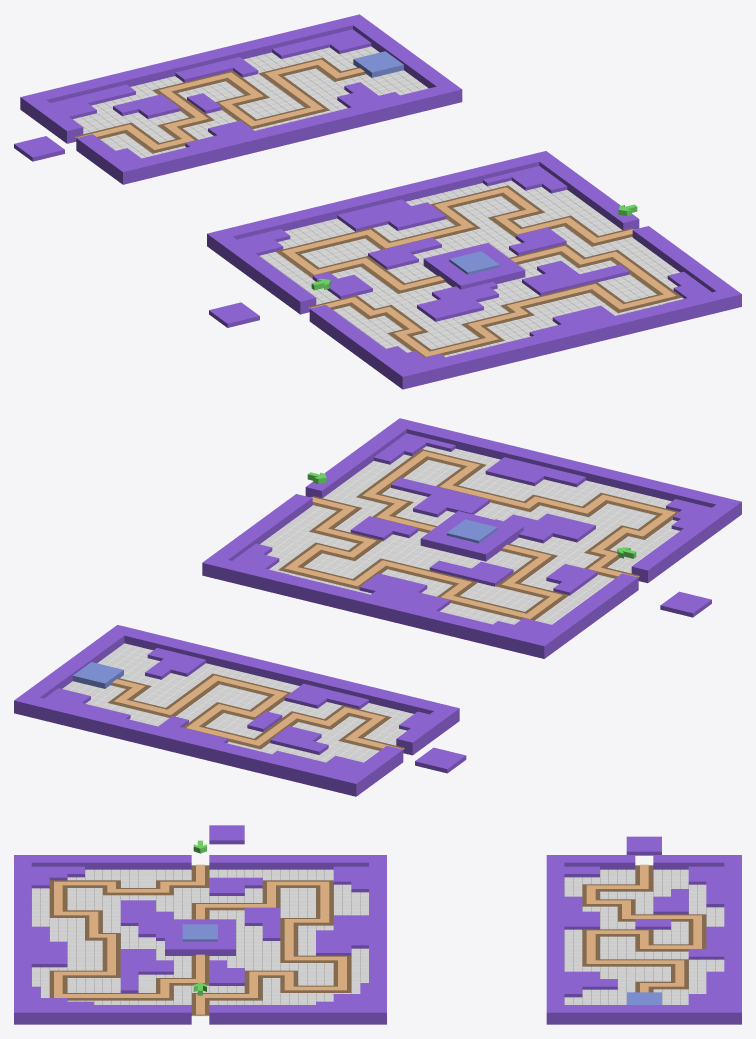
File: (prototype2)stage.fbx
3 views of the same model, one above another, from view 1: azimuth 30°, elevation 25°; view 2: azimuth 150°, elevation 25°; view 3: azimuth 270°, elevation 25° (orthographic). The views are drawn at different scales.
Visible parts, largest first — view 1: square_object, object, square_grid.001, square_enemy.way, grid, enemy.way, core, square_core; view 2: square_object, object, square_grid.001, square_enemy.way, grid, enemy.way, core, square_core; view 3: square_object, square_grid.001, object, square_enemy.way, grid, enemy.way, square_core, core.
Part boxes in pixels (x1,y1,x2,y2): square_object: (207,151,741,389); object: (14,14,462,184); square_grid.001: (259,180,683,357); square_enemy.way: (275,185,682,357); grid: (73,46,428,158); enemy.way: (75,57,366,153); core: (353,51,403,77); square_core: (449,251,499,274); square_object: (202,418,741,658); object: (14,625,466,796); square_grid.001: (260,446,679,624); square_enemy.way: (278,449,678,620); grid: (62,643,413,762); enemy.way: (107,673,404,750); core: (72,662,123,688); square_core: (446,519,497,543); square_object: (14,825,386,1024); square_grid.001: (31,869,368,1016); object: (546,836,741,1024); square_enemy.way: (49,864,351,1015); grid: (564,869,724,1004); enemy.way: (582,864,706,992); square_core: (182,924,217,941); core: (626,992,661,1004).
Size of the model in its own units: 5100 by 375 by 8200.
